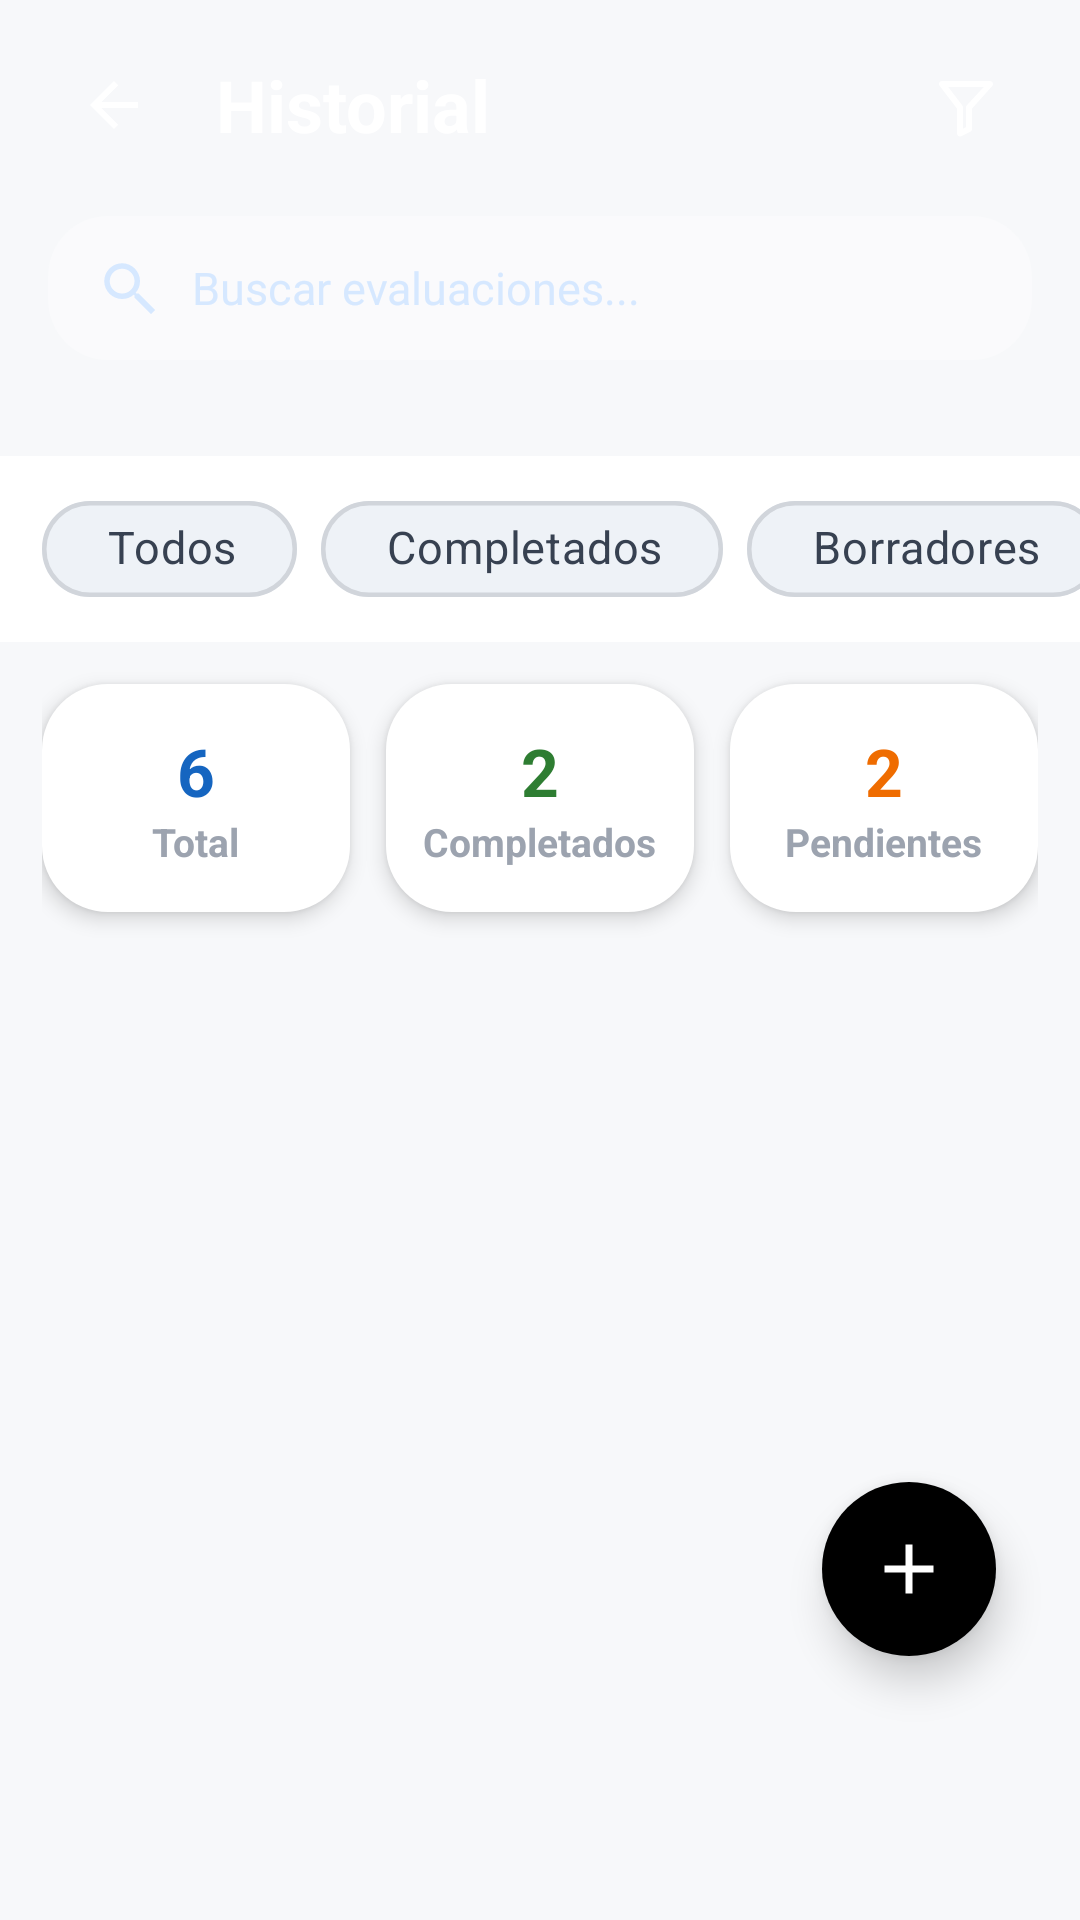

Screen size 1080 × 1920. Icon name, then its center in pixels as [x,y]:
add: [909,1569]
search: [129,288]
